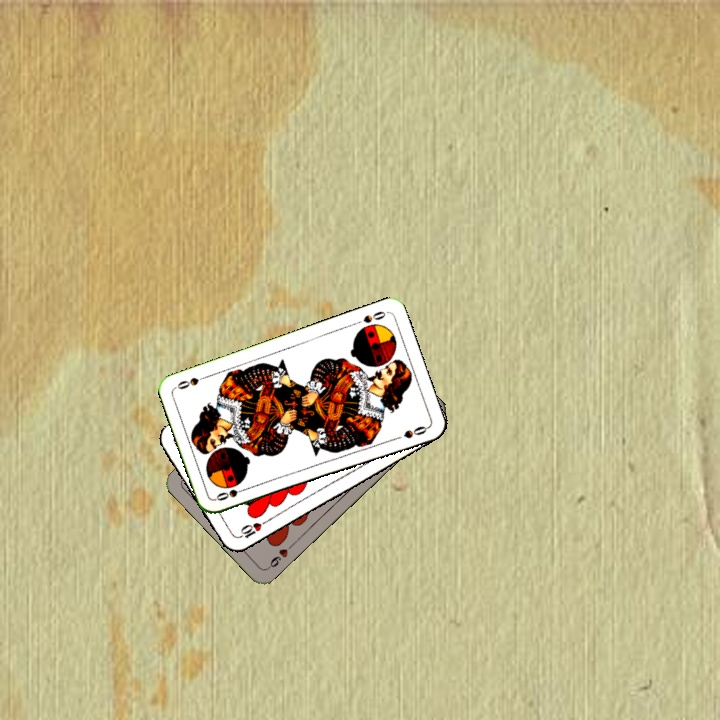H10: (233, 516, 271, 541)
H9: (263, 540, 296, 572)
SO: (350, 307, 389, 328), (212, 483, 251, 503)
